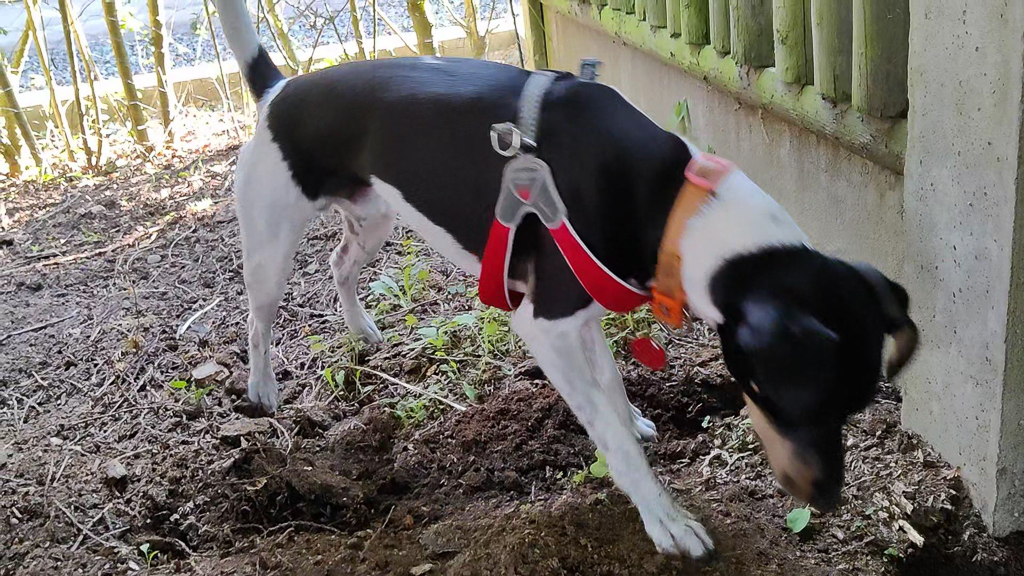Dog: (195, 0, 927, 572)
